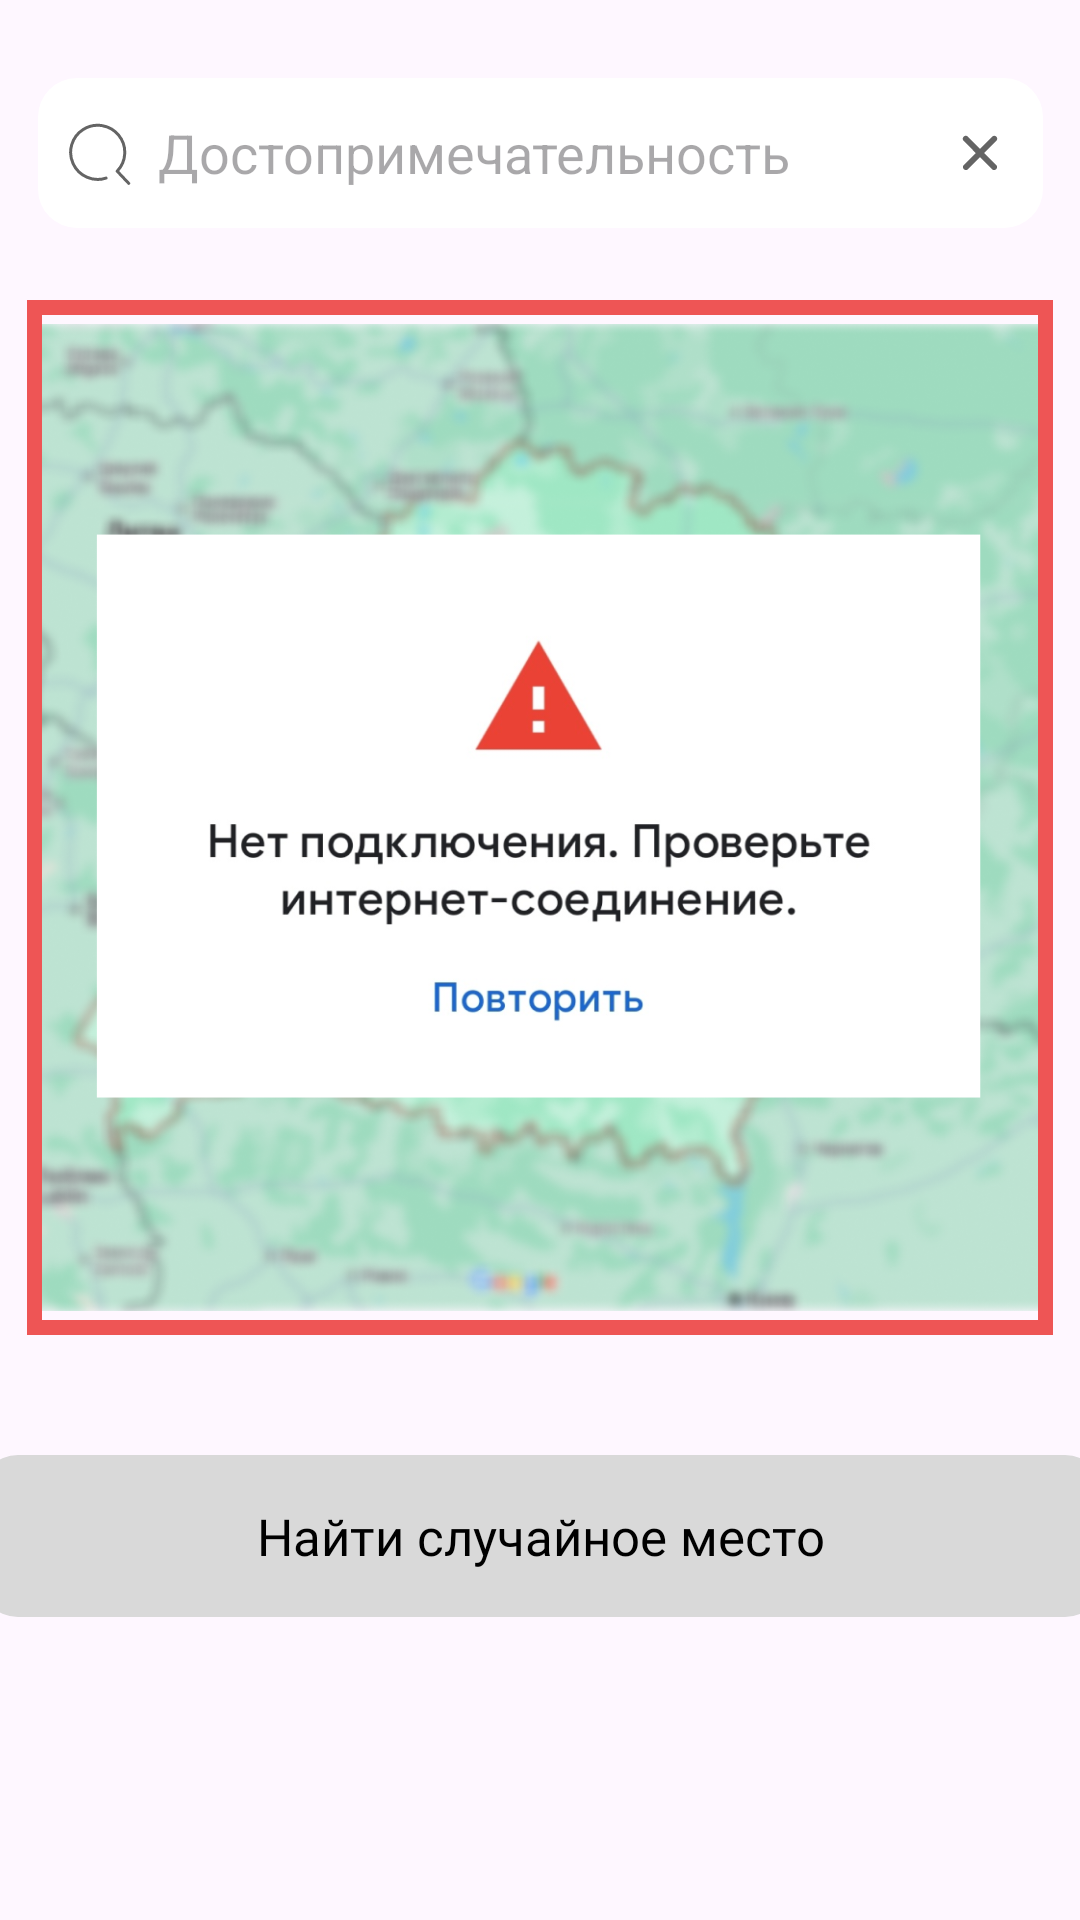

Where icons sit on this 1080px×1920px app screen, as [left=x1, top=y1, right=x2, bottom=y2]:
search: [left=69, top=123, right=131, bottom=185]
